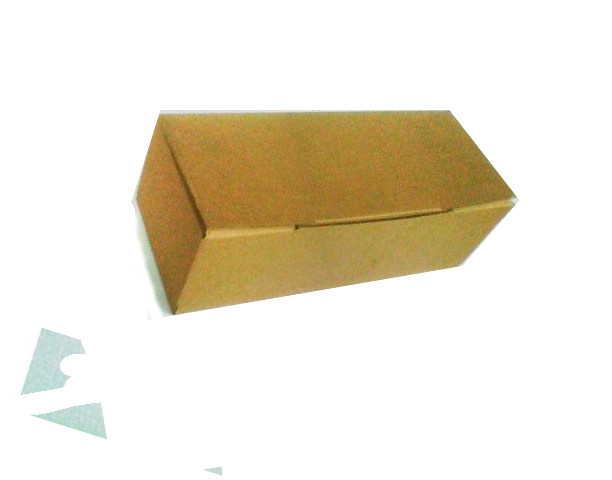cardboard: (134, 110, 518, 313)
